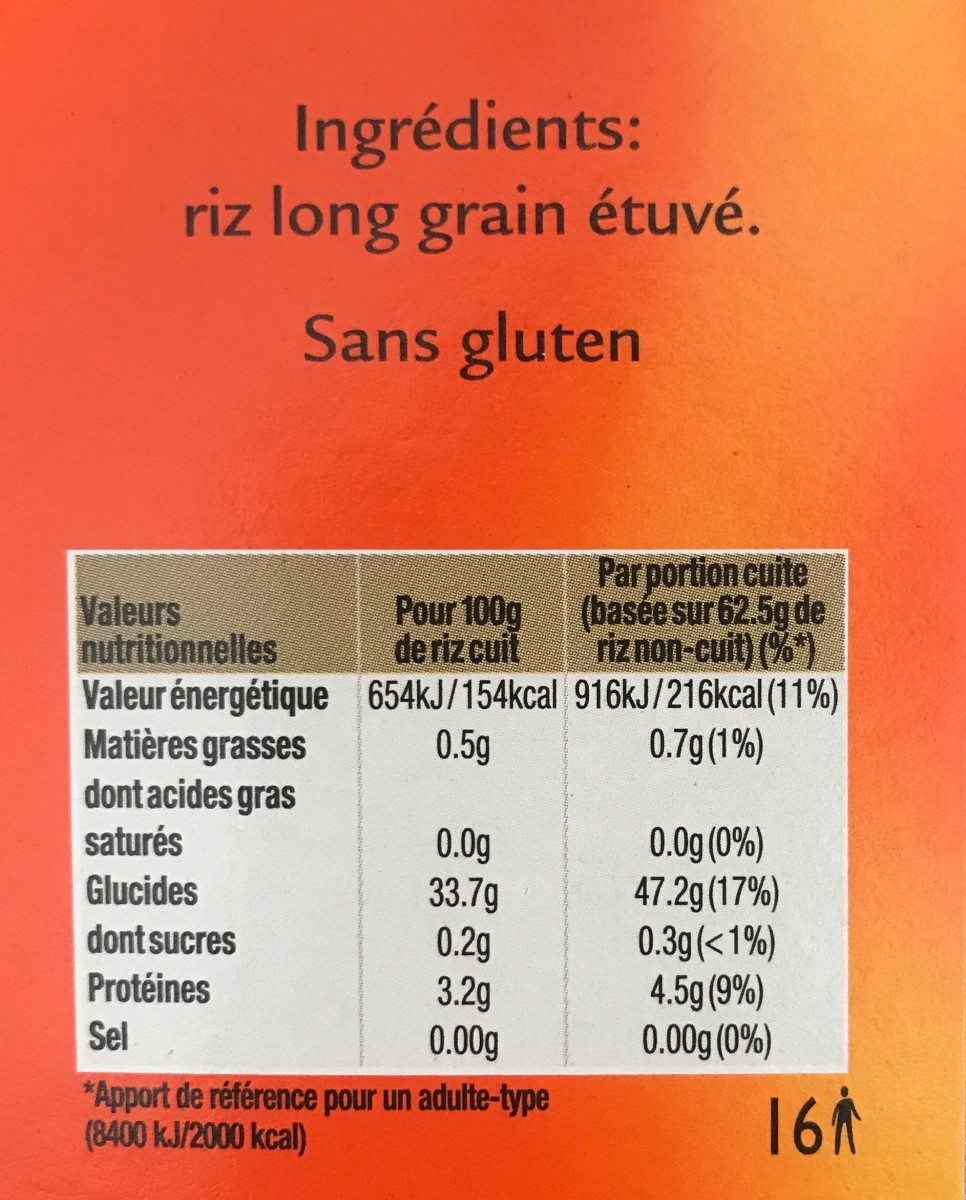column: (573, 559, 837, 1074), (82, 559, 336, 1062), (364, 555, 558, 1063)
table: (75, 554, 856, 1077)
